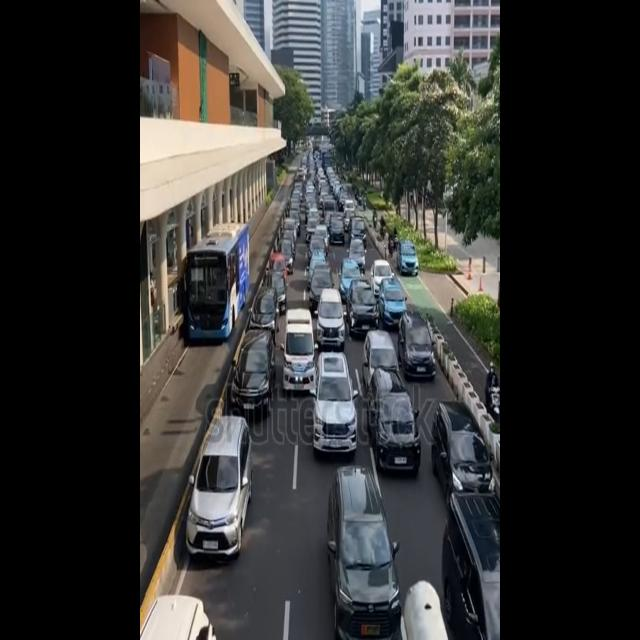Ambulance: (282, 301, 318, 396)
